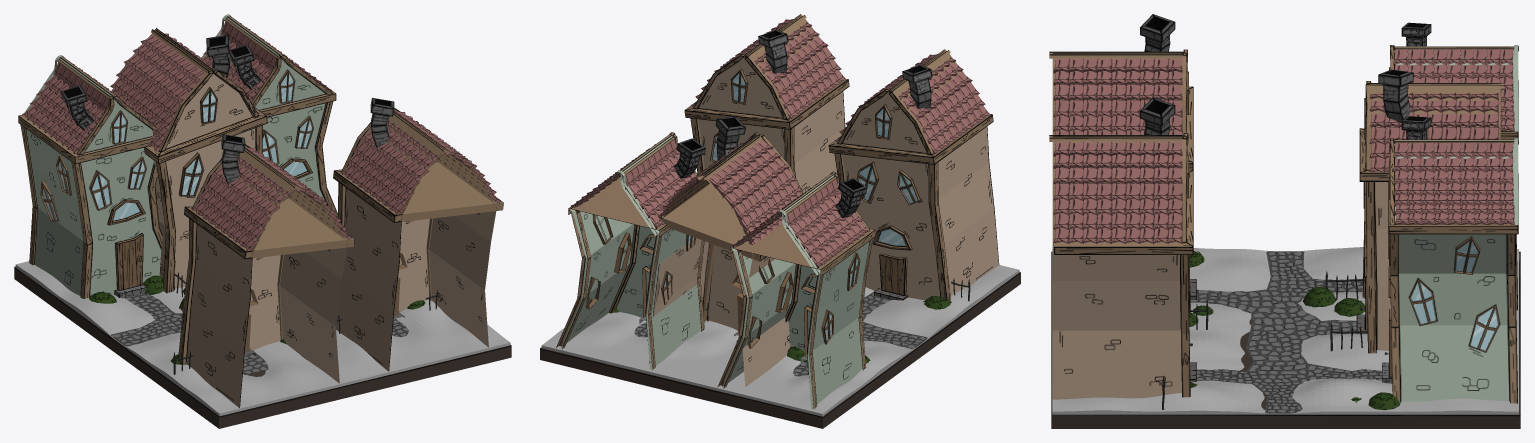
File: Village_maisons.fbx
3 views of the same model, side by side, from view 1: azimuth 30°, elevation 25°; view 2: azimuth 150°, elevation 25°; view 3: azimuth 270°, elevation 25° (orthographic). The views are drawn at different scales.
Visible parts, largest first — view 1: Maison_entre_4, Maison_entre_5, Maison_3, Maison_entre_6, sol24, Maison_1, sol10, sol23; view 2: Maison_entre_4, Maison_3, Maison_1, Maison_entre_6, Maison_entre_5, sol24, sol10, sol23; view 3: Maison_entre_5, Maison_1, sol24, Maison_entre_6, Maison_entre_4, sol23, sol10, Maison_3, Buisson19, Buisson20, Buisson21.
Part boxes in pixels (<box>): Maison_entre_4: <box>178,134,354,407</box>; Maison_entre_5: <box>333,98,503,371</box>; Maison_3: <box>18,55,162,298</box>; Maison_entre_6: <box>110,28,267,293</box>; sol24: <box>15,261,510,416</box>; Maison_1: <box>201,14,337,217</box>; sol10: <box>14,266,511,428</box>; sol23: <box>111,293,408,374</box>; Maison_entre_4: <box>828,49,999,300</box>; Maison_3: <box>717,171,875,409</box>; Maison_1: <box>556,132,705,369</box>; Maison_entre_6: <box>649,116,802,386</box>; Maison_entre_5: <box>684,14,849,193</box>; sol24: <box>541,265,1019,416</box>; sol10: <box>540,272,1020,428</box>; sol23: <box>634,291,927,376</box>; Maison_entre_5: <box>1049,97,1196,399</box>; Maison_1: <box>1382,116,1518,403</box>; sol24: <box>1052,247,1519,414</box>; Maison_entre_6: <box>1356,69,1503,353</box>; Maison_entre_4: <box>1049,14,1196,312</box>; sol23: <box>1190,251,1381,413</box>; sol10: <box>1051,251,1520,428</box>; Maison_3: <box>1389,22,1518,310</box>; Buisson19: <box>1303,286,1336,307</box>; Buisson20: <box>1334,298,1365,316</box>; Buisson21: <box>1368,392,1399,410</box>.
Bounding box in the file's own units: 1476 × 1192 × 1797.
